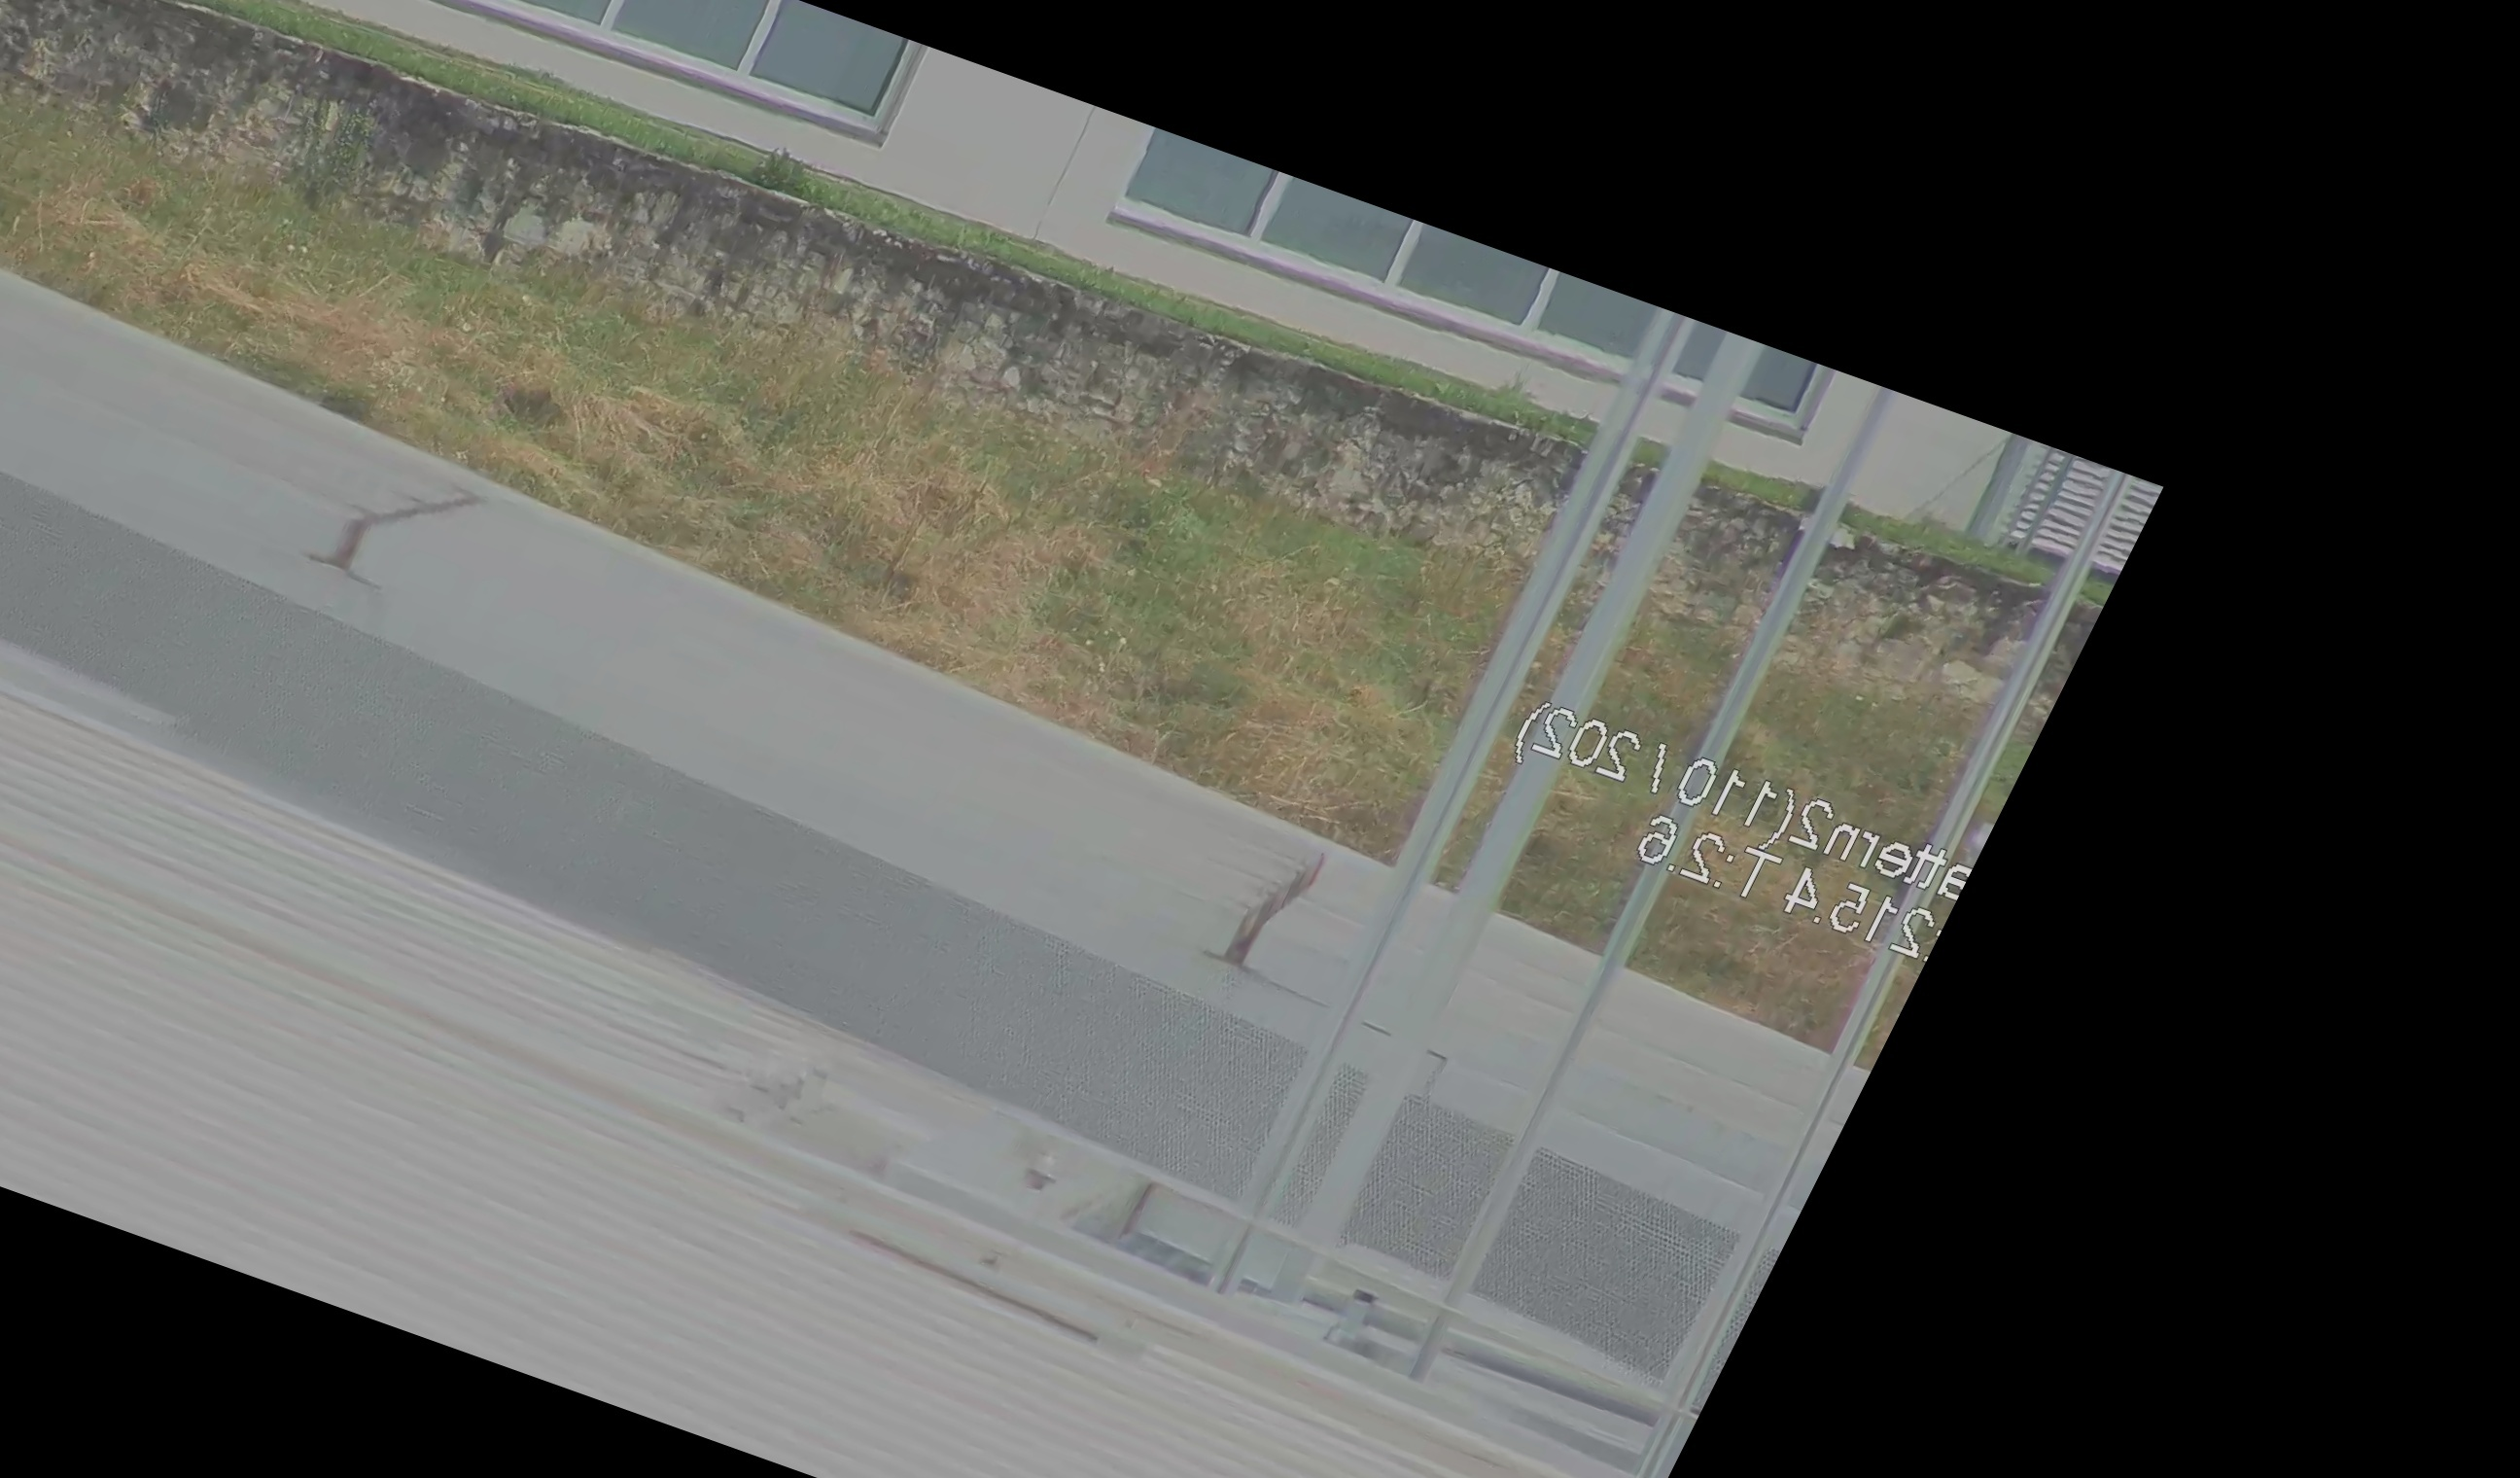Other: (1198, 811, 1372, 999)
